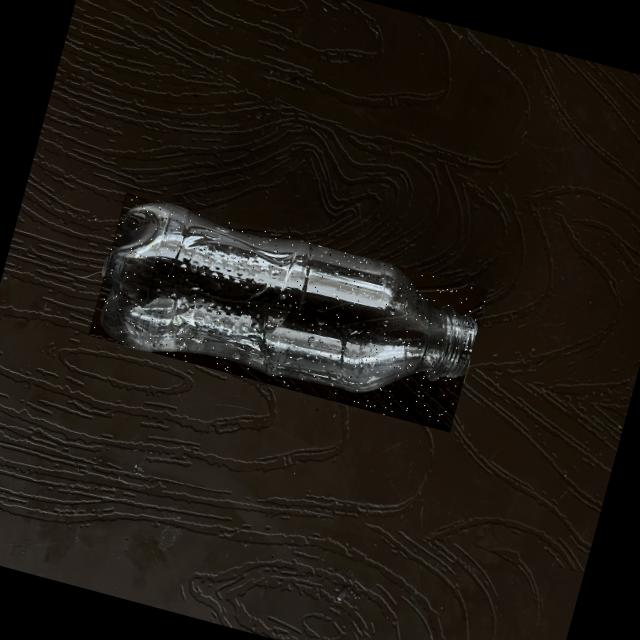PET_With_Liquid: (101, 203, 452, 390)
